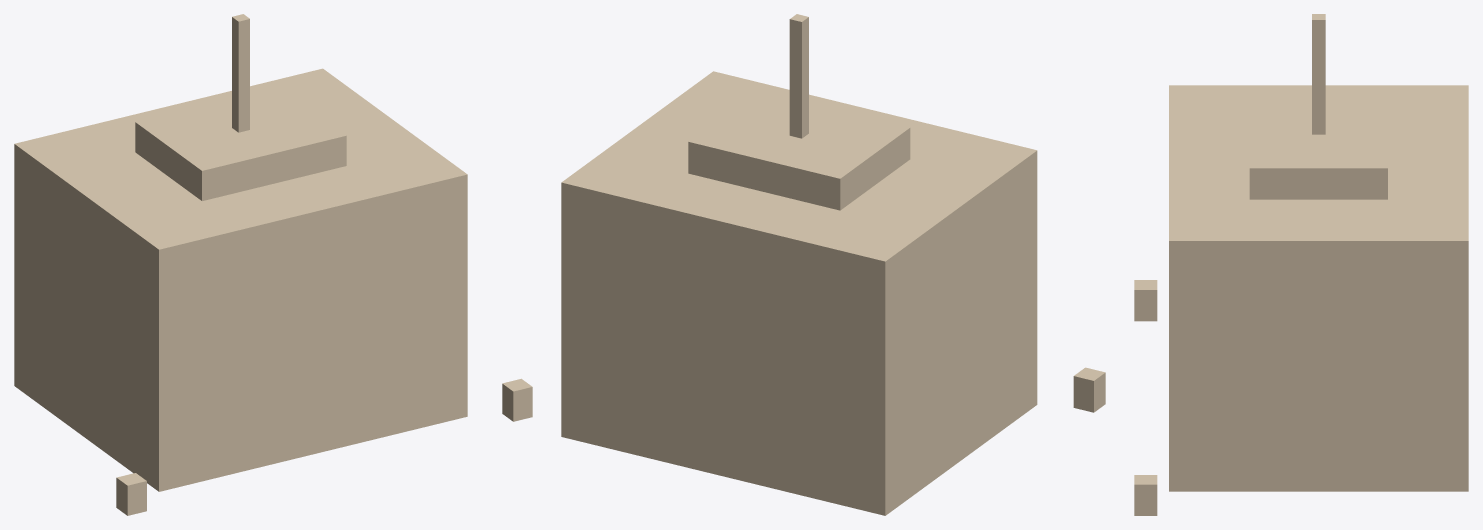
File: tent.glb
The picture shows the model from 3 angles, left to right: view 1: azimuth 30°, elevation 25°; view 2: azimuth 150°, elevation 25°; view 3: azimuth 270°, elevation 25°; orthographic projection. The views are drawn at different scales.
Visible parts, largest first — view 1: COL_tent, tent_tier_low, tent_tier_top, tent_pole, tent_peg_a, tent_peg_b; view 2: COL_tent, tent_tier_low, tent_tier_top, tent_pole, tent_peg_a; view 3: COL_tent, tent_tier_top, tent_tier_low, tent_pole, tent_peg_a, tent_peg_b.
Boxes of the visible parts, x1,y1,x2,y2 form: COL_tent: (14,68,467,491); tent_tier_low: (14,265,467,491); tent_tier_top: (135,87,346,200); tent_pole: (232,14,249,132); tent_peg_a: (116,473,146,515); tent_peg_b: (502,378,532,421); COL_tent: (561,71,1037,515); tent_tier_low: (561,279,1037,514); tent_tier_top: (688,90,910,210); tent_pole: (789,14,808,138); tent_peg_a: (1073,367,1105,412); COL_tent: (1169,85,1468,491); tent_tier_top: (1249,95,1387,199); tent_tier_low: (1169,366,1468,491); tent_pole: (1312,14,1325,134); tent_peg_a: (1134,280,1157,321); tent_peg_b: (1134,475,1157,515).
Bounding box in the file's own units: 4.2 × 3.8 × 2.9.
